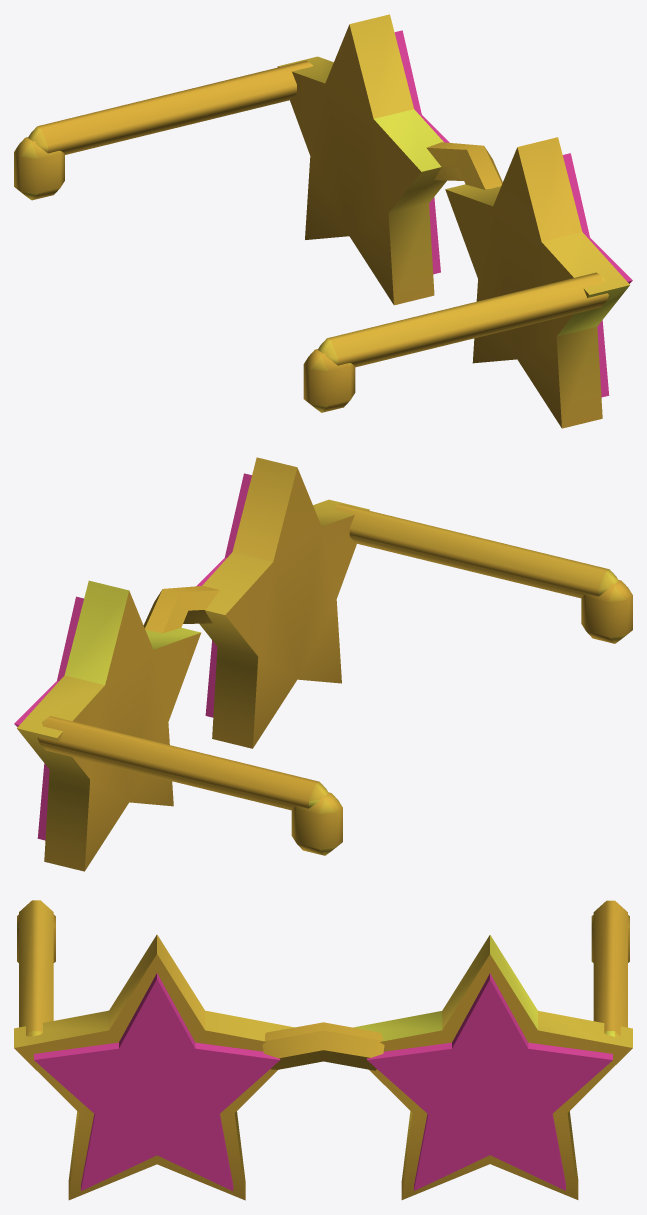
Rendered from SM_Acc_StarShades.fbx.
3 views of the same model, one above another, from view 1: azimuth 30°, elevation 25°; view 2: azimuth 150°, elevation 25°; view 3: azimuth 270°, elevation 25° (orthographic).
Parts seen in each view (by area): view 1: SM_Acc_StarShades; view 2: SM_Acc_StarShades; view 3: SM_Acc_StarShades.
Boxes of the visible parts, bbox=[...] form: SM_Acc_StarShades: bbox=[14, 14, 632, 428]; SM_Acc_StarShades: bbox=[14, 457, 632, 871]; SM_Acc_StarShades: bbox=[14, 900, 632, 1200].
Size of the model in its own units: 18.18 by 13.08 by 29.74.
